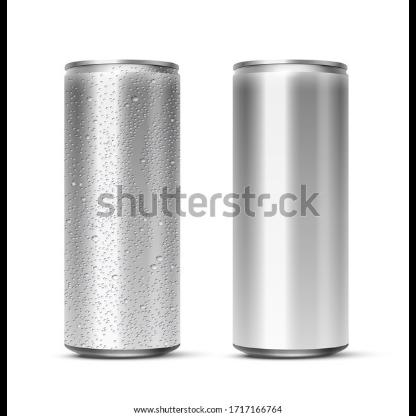Tin_Can: (224, 52, 360, 366), (58, 47, 184, 366)
